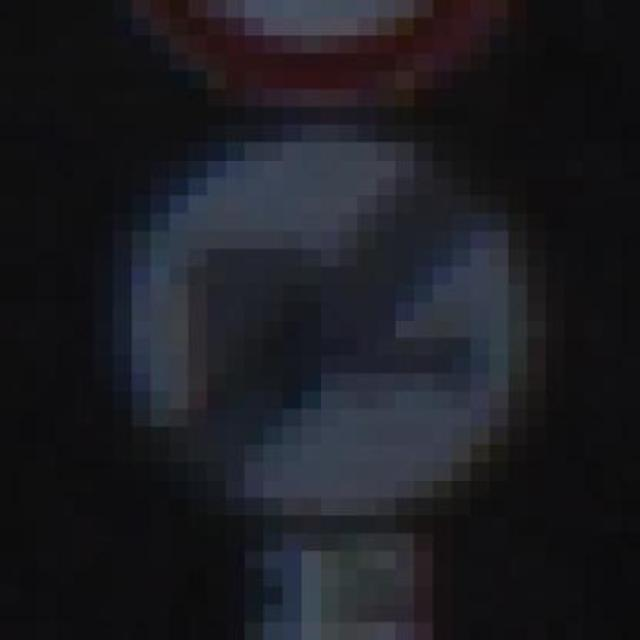Overtaking by trucks is prohibited: (56, 89, 602, 516)
